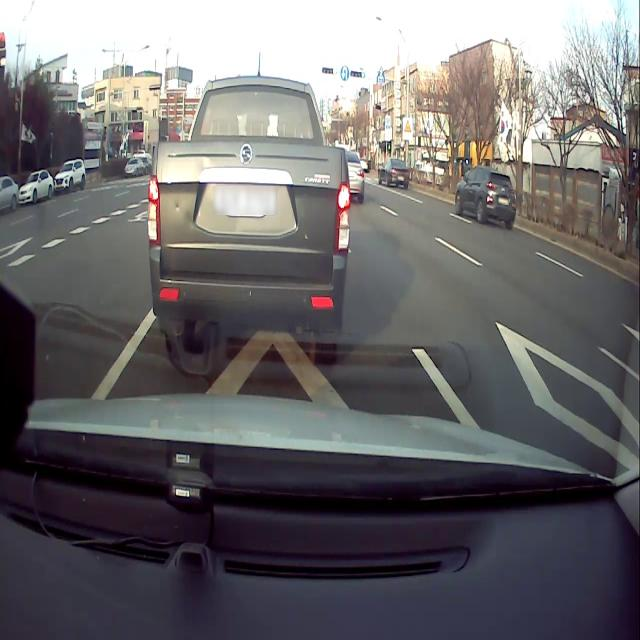Green Light: (332, 66, 337, 76), (361, 72, 365, 78)
